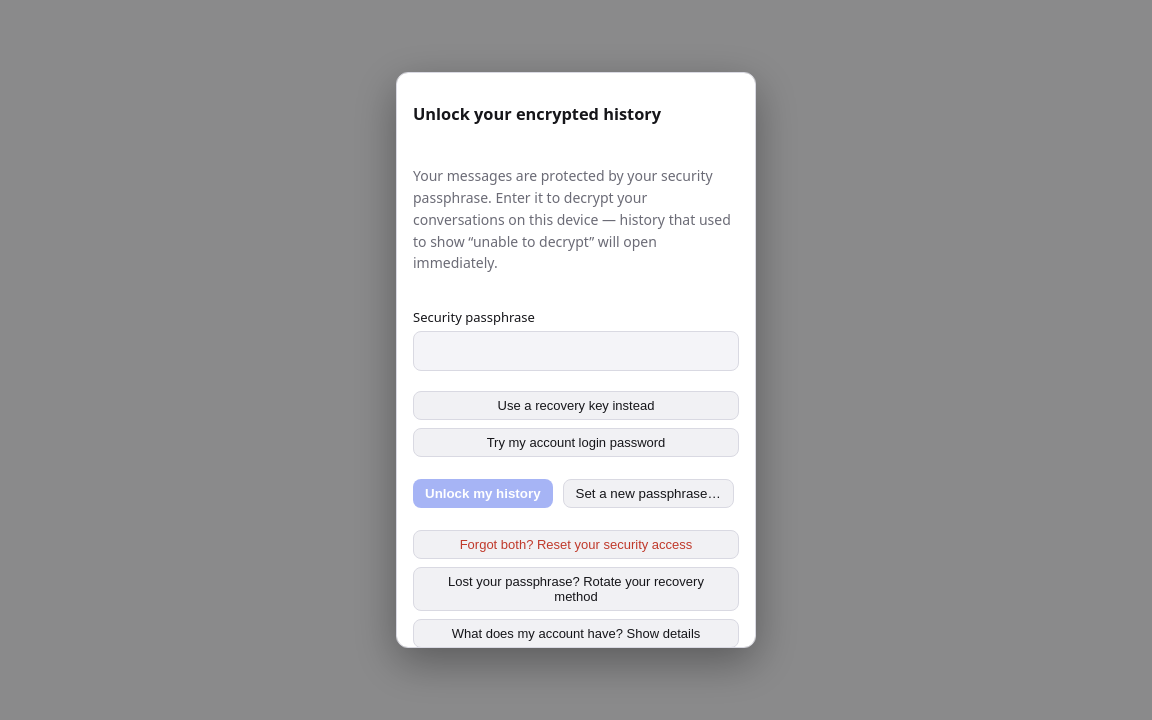
Scenario: W23-B destructive reset behind an honest confirmation › the banned framing never appears: the flow itself is never presented as a 'recovery'
Expected: the heading "Unlock your encrypted history" is shown, [413,103,661,125]
Click the button with test id "reset-entry" at (576, 545), box [413,530,739,559]
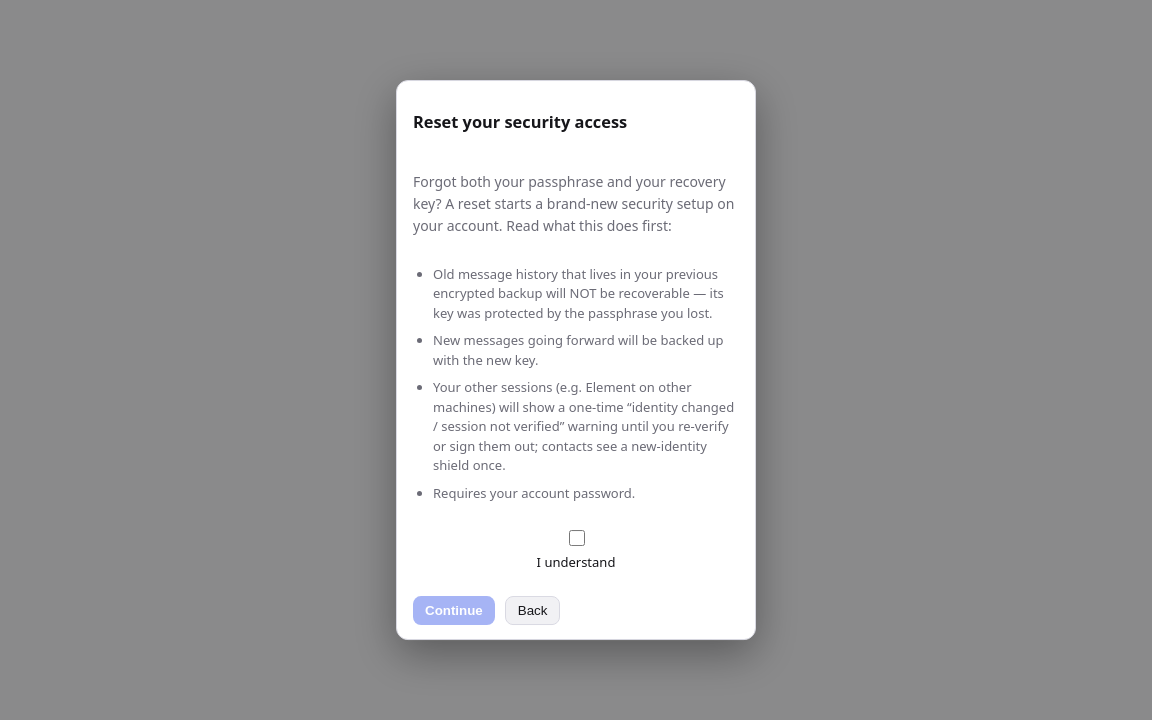
Expected: the element with test id "reset-confirm" is shown, [413,95,739,625]
Expected: the list with test id "reset-impact" shows "NOT be recoverable", [433,265,724,322]
